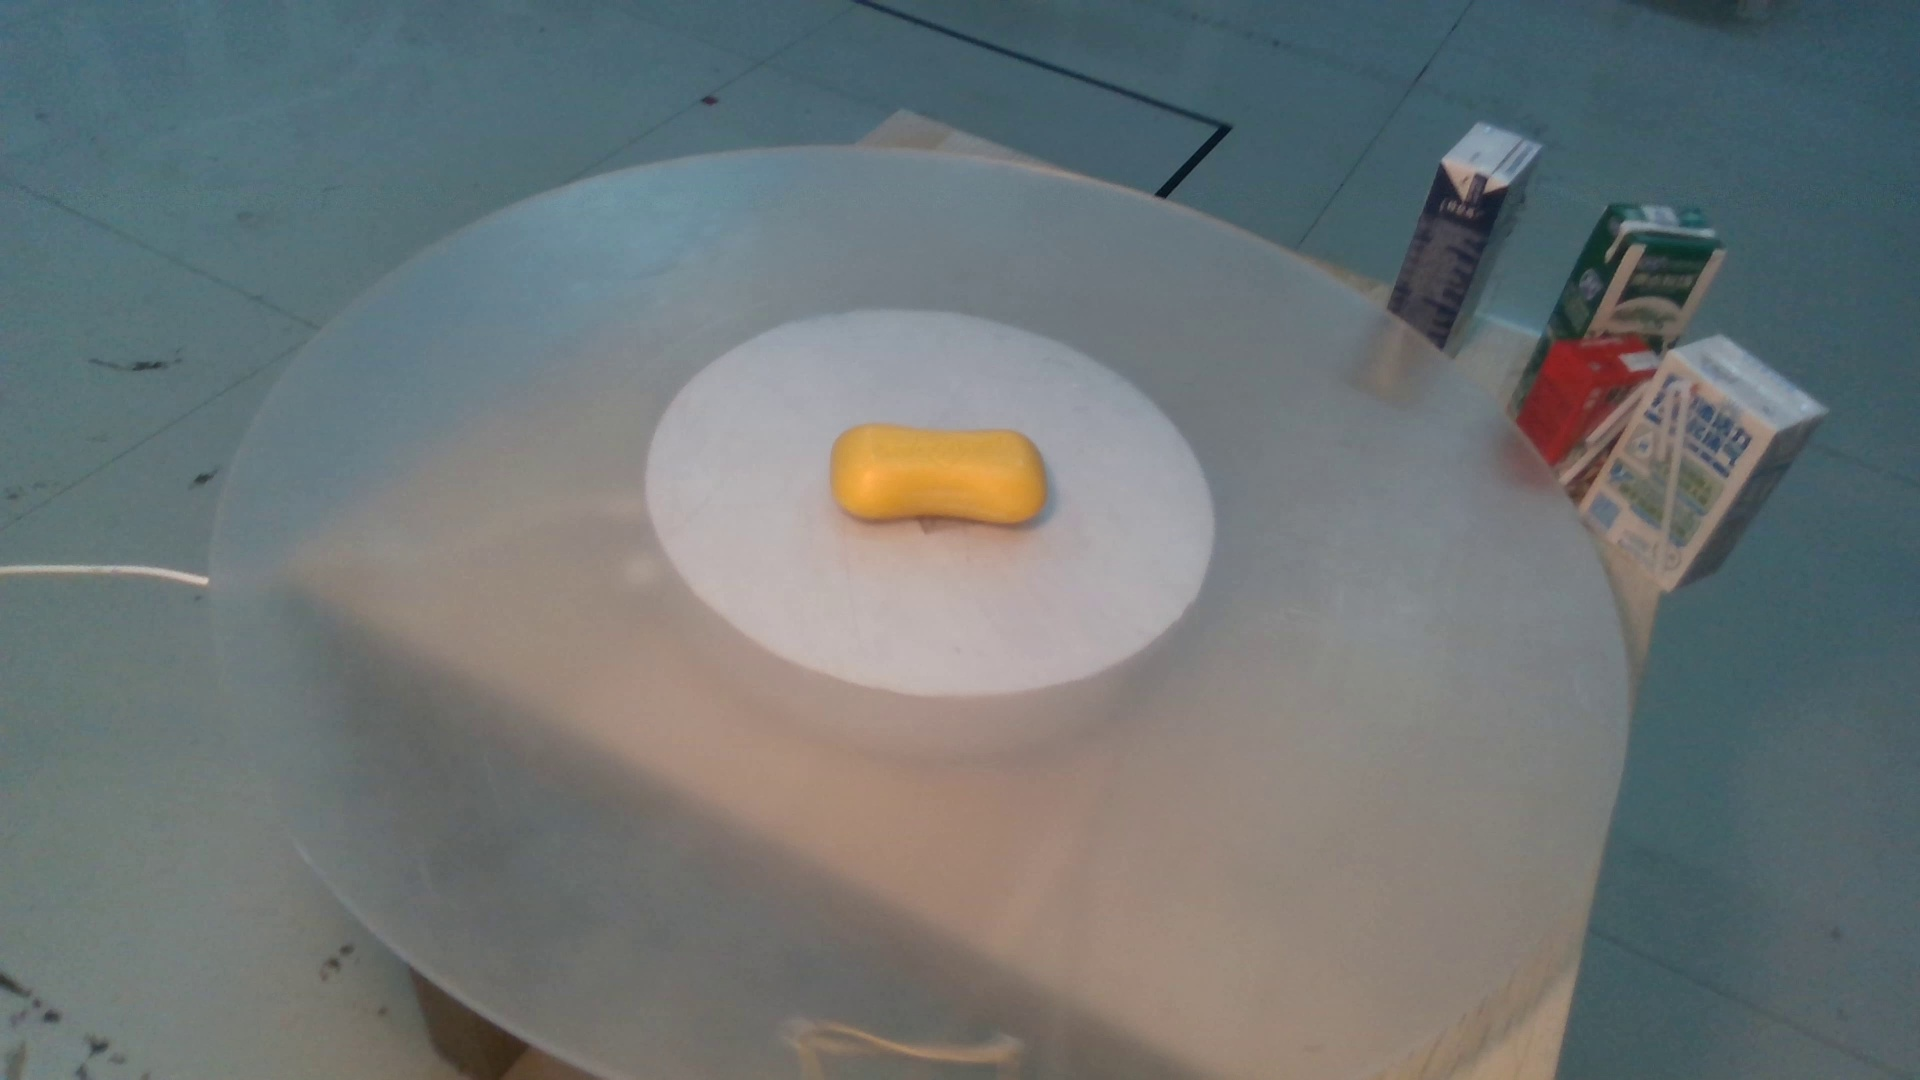CA003_1: (793, 400, 1068, 549)
